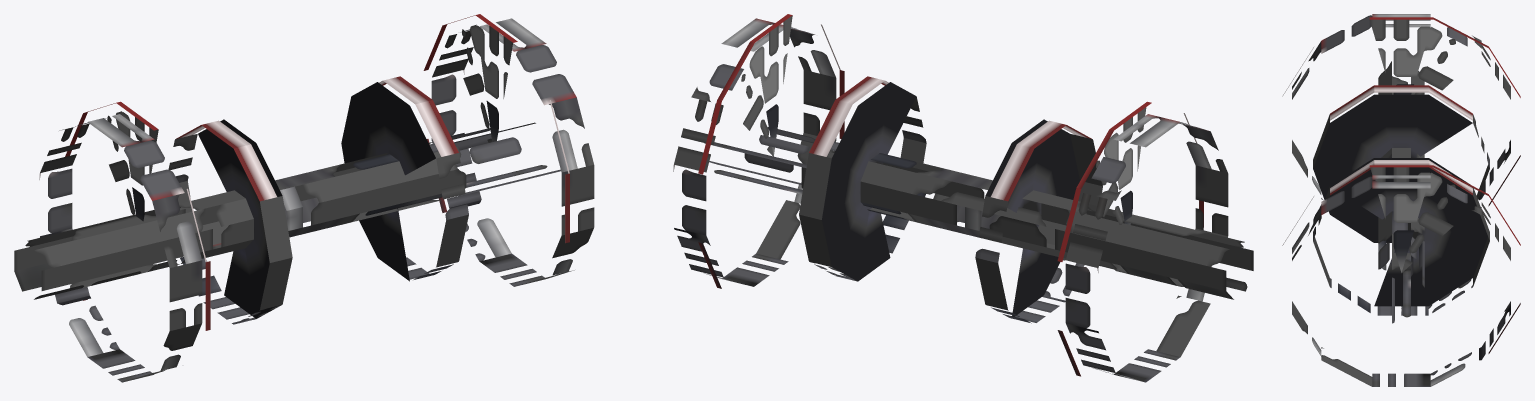
File: wheel.obj
3 renders of one model, left to right at view 1: azimuth 30°, elevation 25°; view 2: azimuth 150°, elevation 25°; view 3: azimuth 270°, elevation 25°, orthographic. The views are drawn at different scales.
Size of the model in its own units: 2.21 by 0.9375 by 0.9375.
